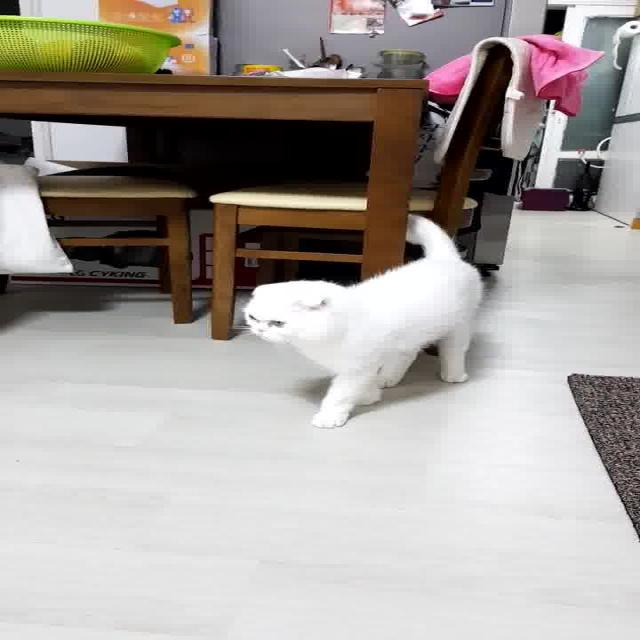cat: (234, 206, 496, 430)
